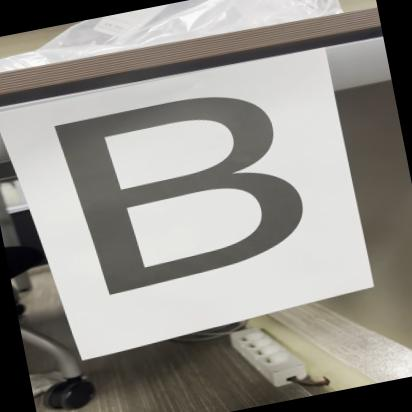seat: (28, 64, 358, 315)
